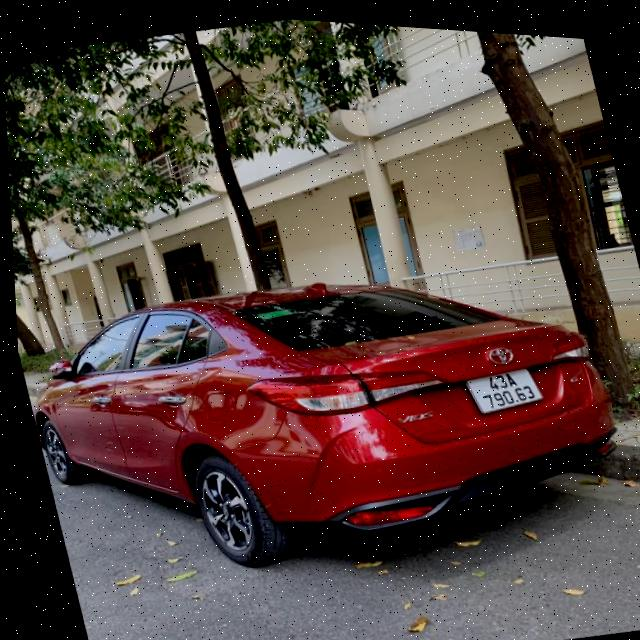car: (11, 212, 640, 631)
plate: (459, 355, 548, 424)
